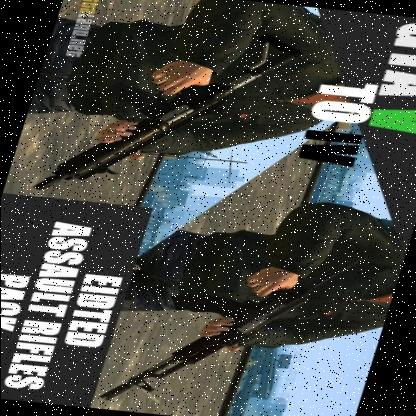rifle: (22, 14, 308, 216), (98, 226, 372, 416)
